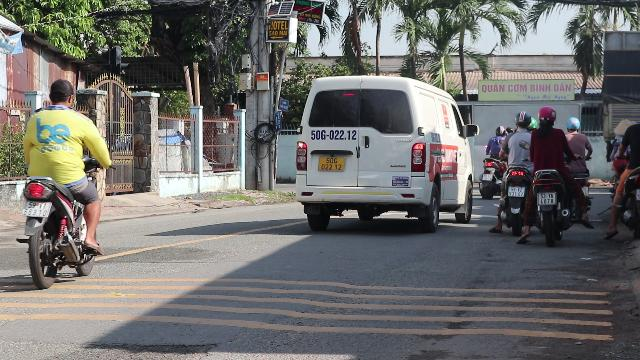helmet: (536, 106, 556, 127), (514, 110, 532, 130)
licenseplate: (22, 202, 50, 217), (538, 192, 554, 204), (508, 188, 524, 196)
motorcyclist: (15, 78, 110, 286), (526, 104, 592, 244), (494, 106, 534, 234)
nohelmet: (46, 79, 76, 108)
